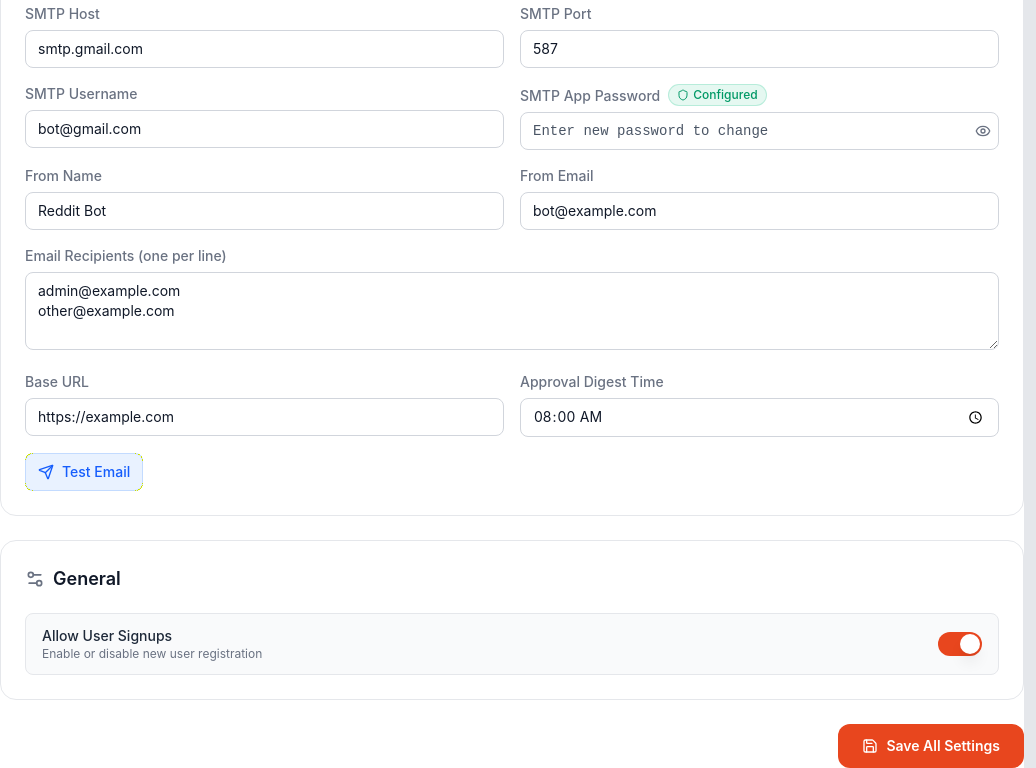
Scenario: Settings › shows test email input when clicking Test Email
The width and height of the screenshot is (1036, 768).
(page scrolled)
Click the button "Test Email" at (84, 472), box [25,453,143,491]
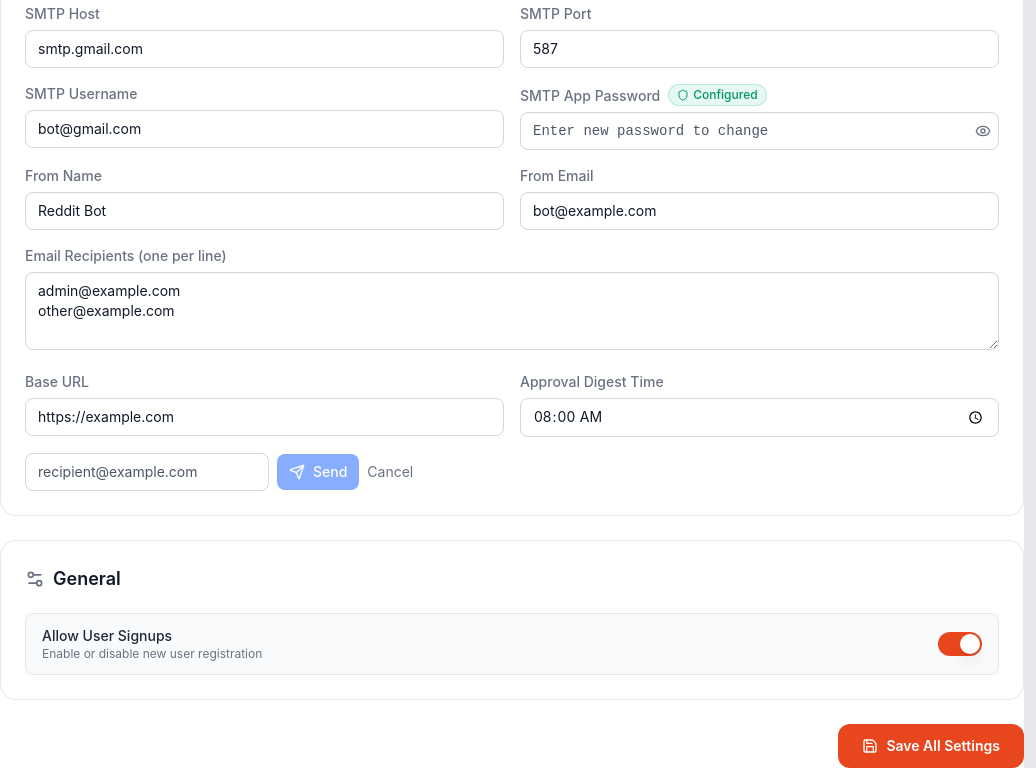
expect the field with placeholder "recipient@example.com" is shown: met, box [25,453,269,491]
